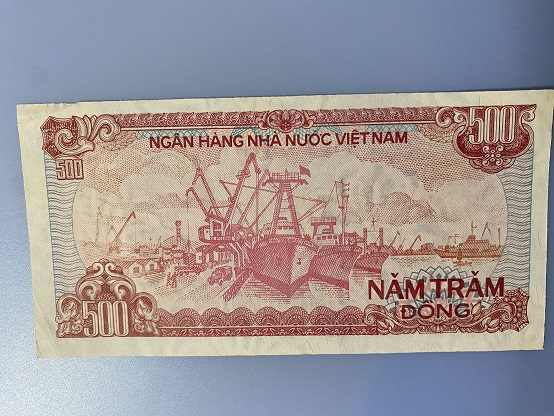500vnd: (15, 92, 544, 360)
